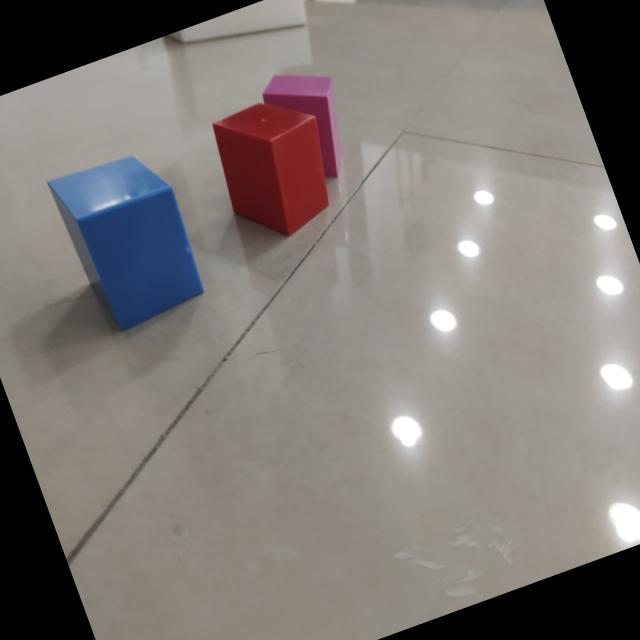blue: (49, 157, 205, 334)
pink: (264, 72, 339, 178)
red: (214, 104, 332, 238)
